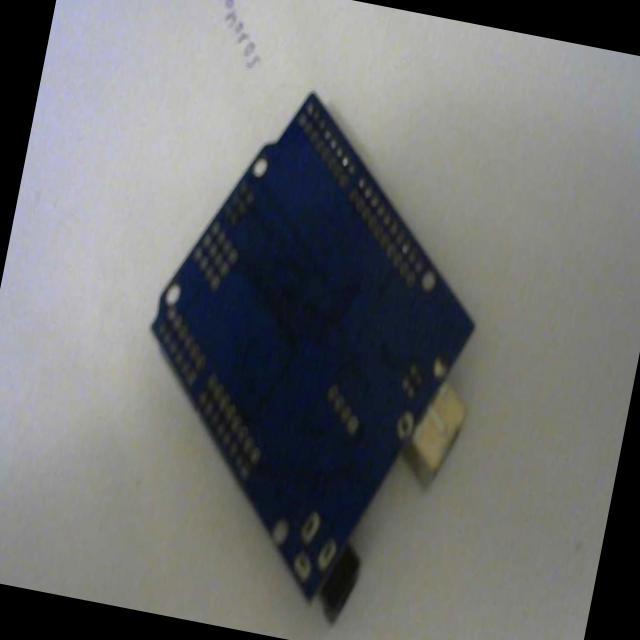arduino: (96, 60, 535, 640)
